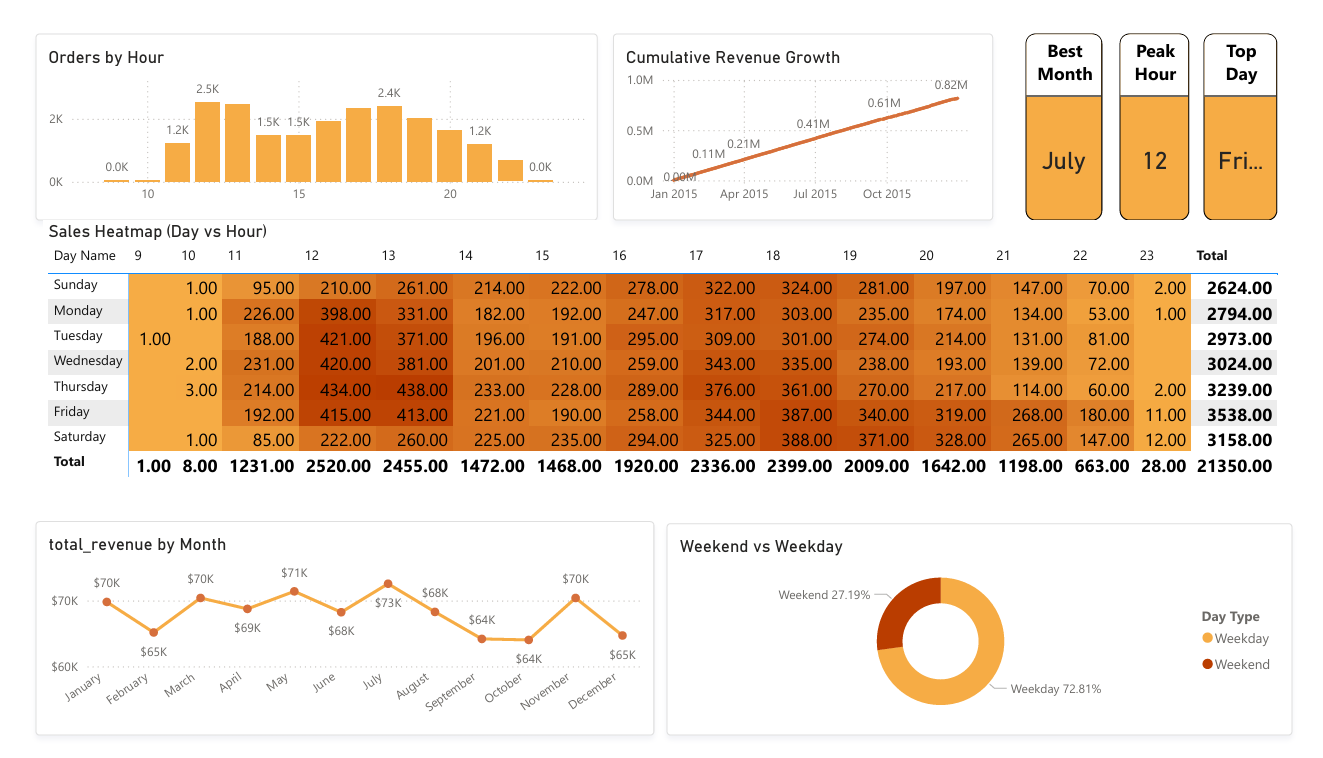

What the dashboard file says about the page in this screenshot:
{"tool":"powerbi","page":{"name":"Time Analysis","canvas":[1280,720],"ordinal":1},"visuals":[{"type":"card","title":"Peak Hour","fields":{"Values":["orders.Peak Hour"]},"box":[1088.5,15.1,69.9,185.2],"z":0},{"type":"card","title":"Top Day","fields":{"Values":["order_details.Top Day"]},"box":[1171.7,15.1,73.7,185.2],"z":1000},{"type":"card","title":"Best Month","fields":{"Values":["orders.Best Month"]},"box":[995.9,15.1,75.6,185.2],"z":2000},{"type":"columnChart","title":"Orders by Hour","fields":{"Category":["orders.Hour"],"Y":["order_details.total_orders"]},"box":[17,15.1,555.6,185.2],"z":3000},{"type":"pivotTable","title":"Sales Heatmap (Day vs Hour)","fields":{"Rows":["orders.Day Name"],"Columns":["orders.Hour"],"Values":["order_details.total_orders"]},"box":[24.6,200.3,1235.9,279.7],"z":4000},{"type":"lineChart","title":"Cumulative Revenue Growth","fields":{"Y":["order_details.Running Revenue"],"Category":["orders.date"]},"box":[587.7,15.1,376.1,185.2],"z":5000},{"type":"donutChart","title":"Weekend vs Weekday","fields":{"Category":["orders.Day Type"],"Y":["order_details.total_revenue"]},"box":[640.6,498.9,619.8,209.8],"z":6000},{"type":"lineChart","fields":{"Category":["orders.date.Variation.Date Hierarchy.Month"],"Y":["order_details.total_revenue"]},"box":[17,497,612.3,211.7],"z":7001}]}

Visuals, with their boxes in screenshot pixels (x1, y1, x2, y2), scaled from the page's 1280x720 canvas onto the 1323x758 screenshot:
"Peak Hour" card: 1125 16 1197 211
"Top Day" card: 1211 16 1287 211
"Best Month" card: 1029 16 1107 211
"Orders by Hour" columnChart: 18 16 592 211
"Sales Heatmap (Day vs Hour)" pivotTable: 25 211 1303 505
"Cumulative Revenue Growth" lineChart: 607 16 996 211
"Weekend vs Weekday" donutChart: 662 525 1303 746
lineChart - orders.date.Variation.Date Hierarchy.Month x order_details.total_revenue: 18 523 650 746
